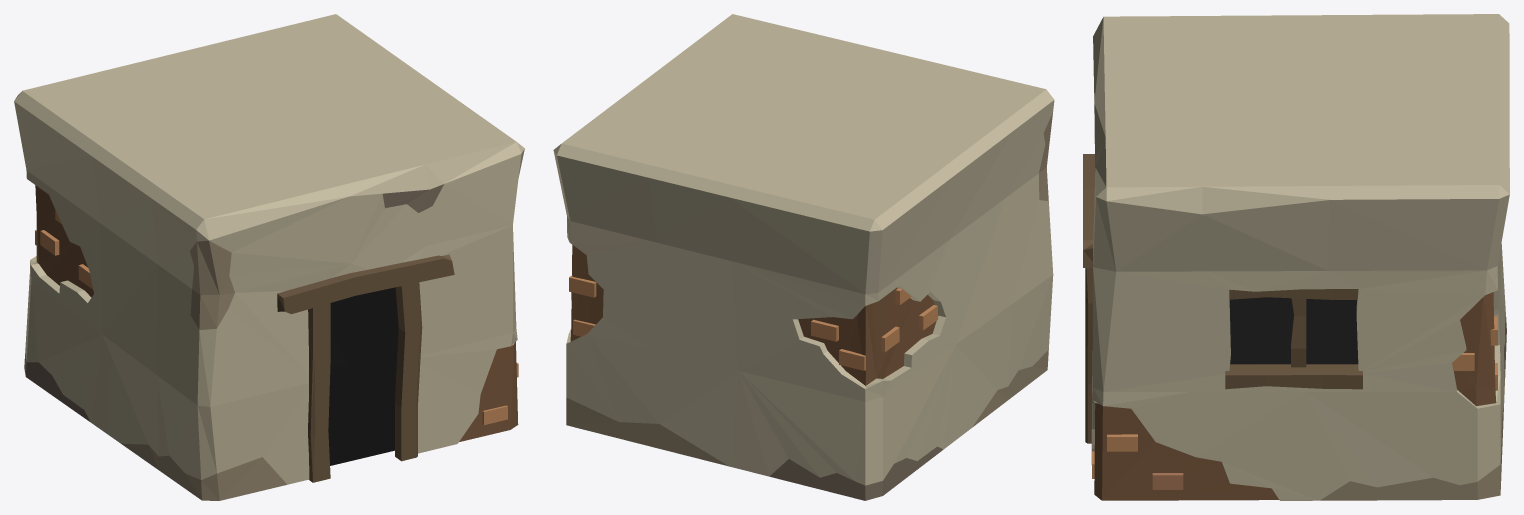
File: house_a.glb
3 renders of one model, left to right at view 1: azimuth 30°, elevation 25°; view 2: azimuth 150°, elevation 25°; view 3: azimuth 270°, elevation 25°, orthographic. The views are drawn at different scales.
Parts seen in each view (by area): view 1: SM_Bld_Village_01; view 2: SM_Bld_Village_01; view 3: SM_Bld_Village_01.
Part boxes in pixels (x1,y1,x2,y2): SM_Bld_Village_01: [14, 14, 524, 500]; SM_Bld_Village_01: [553, 14, 1054, 500]; SM_Bld_Village_01: [1083, 14, 1509, 500].
Size of the model in its own units: 409 by 329 by 405.
1 material, 1 textured.
